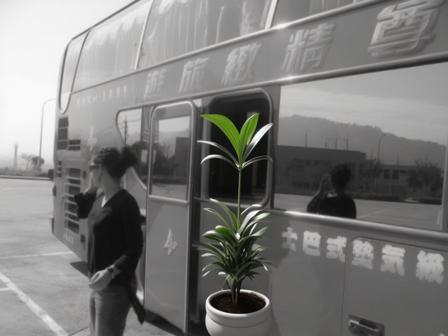bus: (52, 2, 448, 336)
person: (75, 146, 146, 336), (308, 165, 359, 220)
pottedplant: (200, 113, 272, 336)
